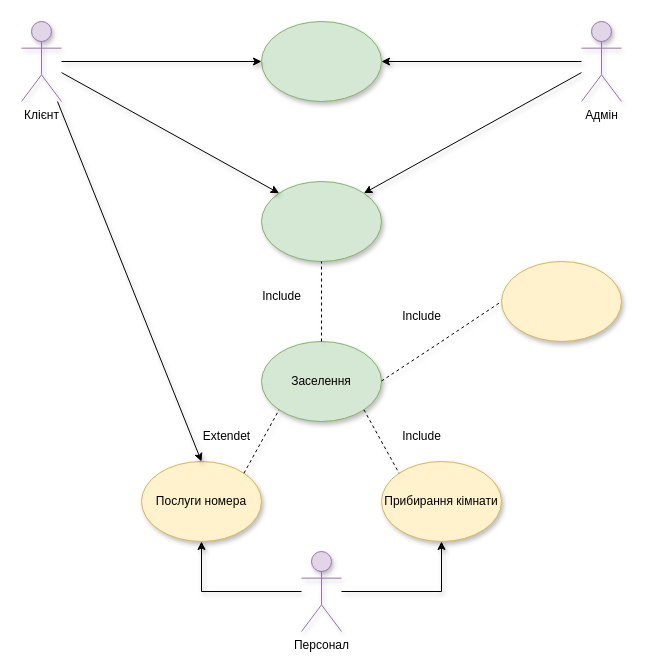
Image size: 645x670. Some labels were removed from this diagram. Each missing label, with the centre of its shape:
"Бронювання" belongs at [322,62].
"Виселення" belongs at [322,222].
"Наявність номерів" belongs at [562,302].
